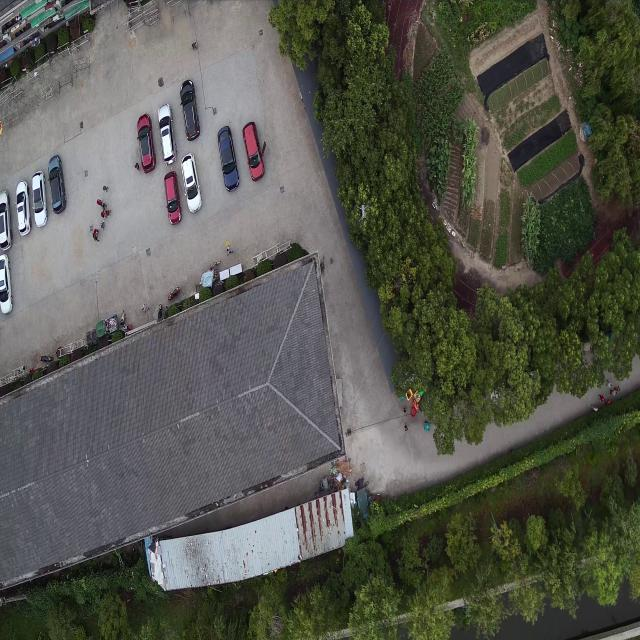UAV: (356, 204, 368, 223)
